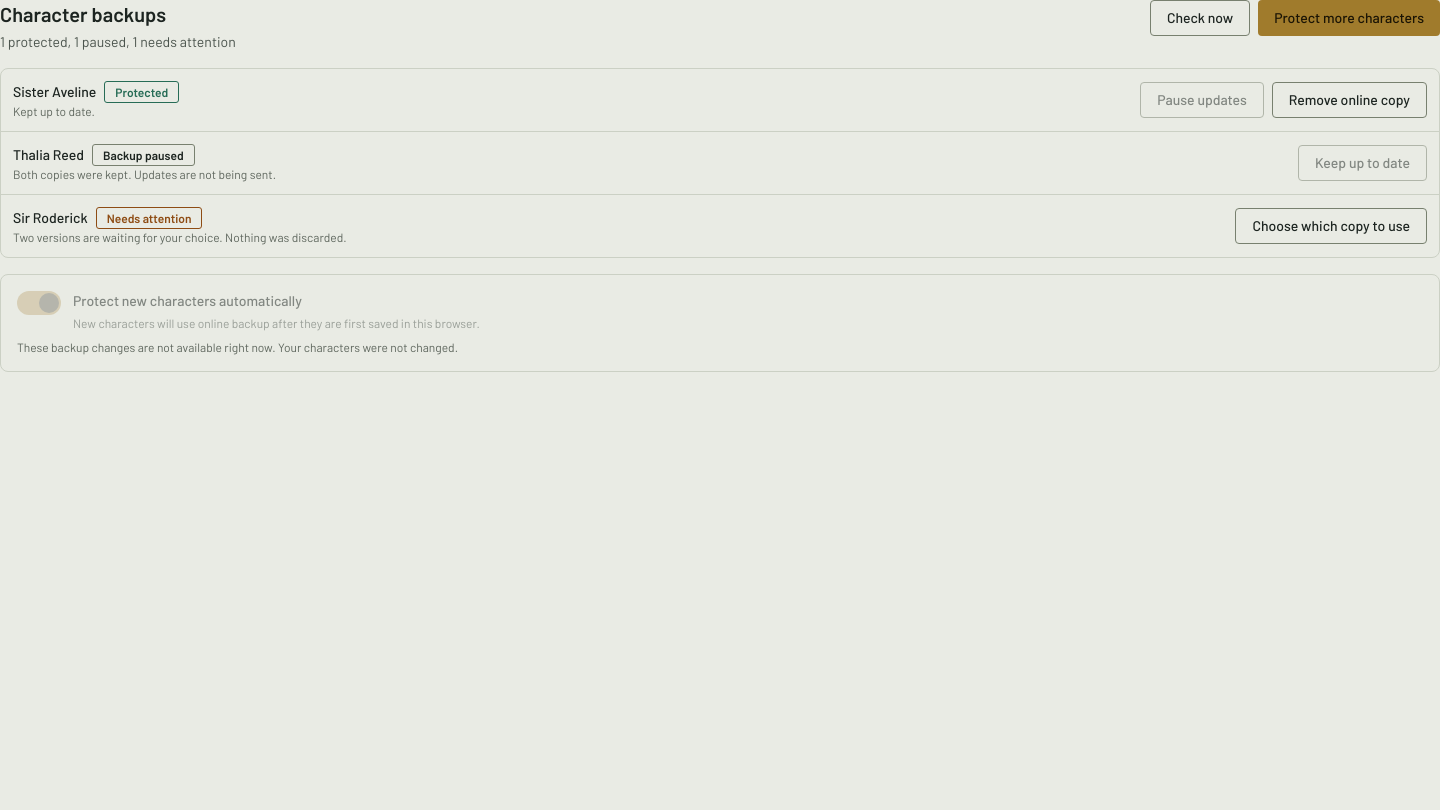
Test: PlayerBackupManager › renders check now, protect more, and confirms soft archive
Check: the heading "Character backups" is shown, box x1=0 y1=2 x2=166 y2=26
Click the button "Check now": (1200, 18) x1=1150 y1=0 x2=1250 y2=36
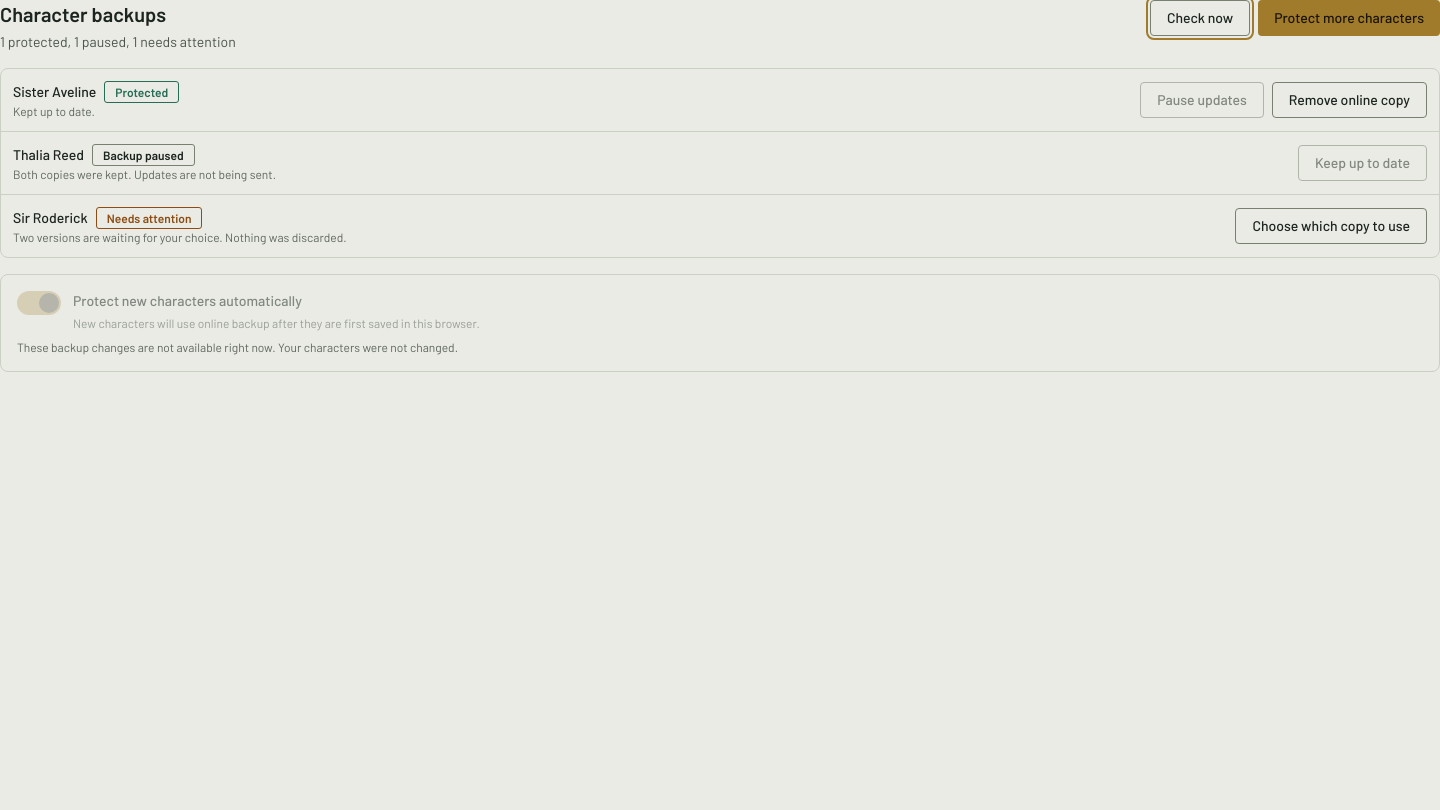
Click the button "Remove online copy": (1349, 100) x1=1272 y1=82 x2=1427 y2=118
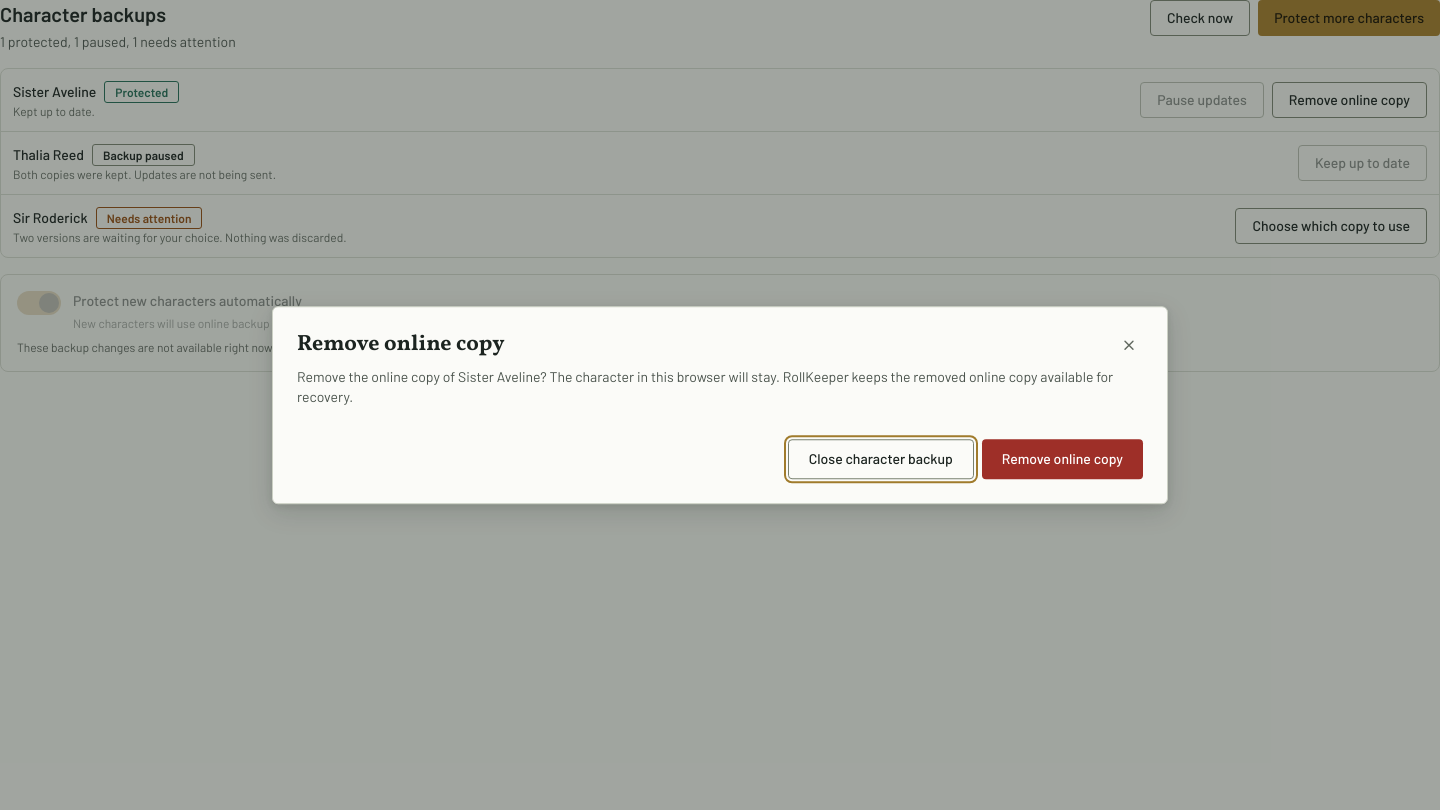
Check: the text "The character in this browser will stay" is shown, box x1=297 y1=368 x2=1113 y2=405
